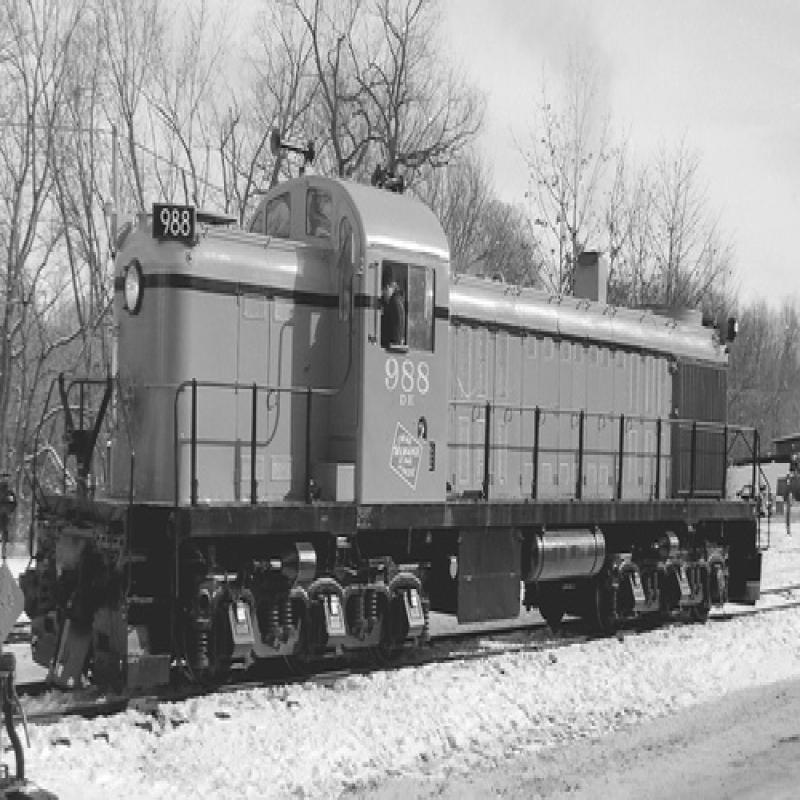train: (17, 166, 771, 725)
